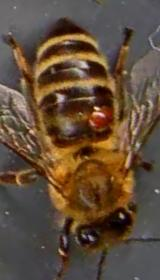varroa_mite: (86, 100, 119, 128)
